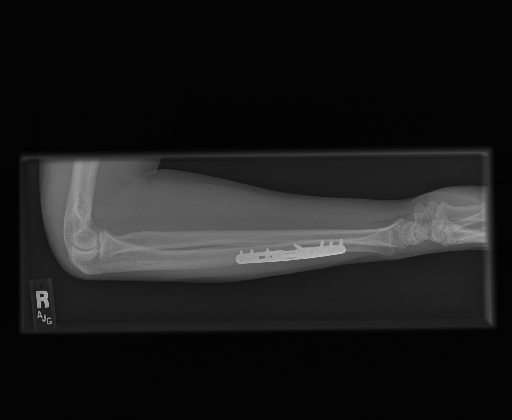implant: (237, 238, 348, 266)
